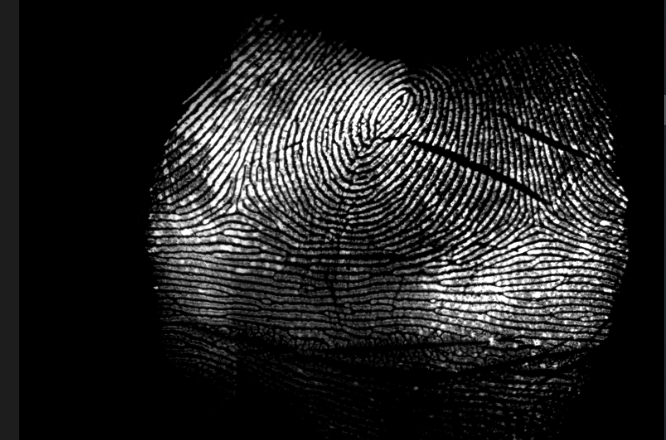deltas: (508, 203, 563, 249), (211, 181, 262, 229)
nucleo: (361, 85, 421, 146)
